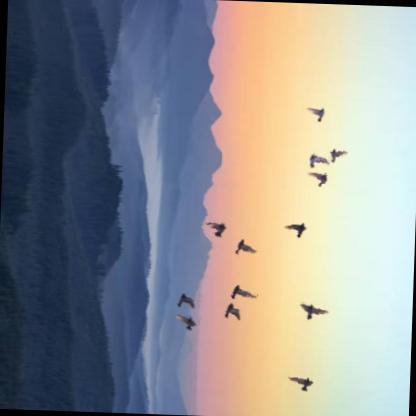bird: (279, 368, 324, 399), (295, 294, 330, 328), (280, 213, 312, 243), (165, 311, 200, 336), (200, 215, 233, 240), (225, 235, 259, 258), (164, 291, 204, 310), (216, 300, 247, 322), (226, 283, 257, 302), (302, 152, 330, 173), (300, 170, 331, 187), (323, 143, 348, 164), (305, 105, 326, 122)
